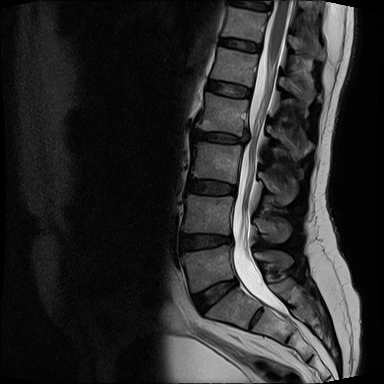Lumbar Disc Bulge (LDB): (184, 271, 242, 319), (183, 118, 254, 150), (176, 226, 237, 255)
Normal IVD: (179, 172, 239, 199), (203, 74, 253, 101), (215, 35, 262, 56)
Spinal Stenosis (SS): (229, 118, 263, 156), (218, 224, 241, 254), (224, 269, 244, 300)
